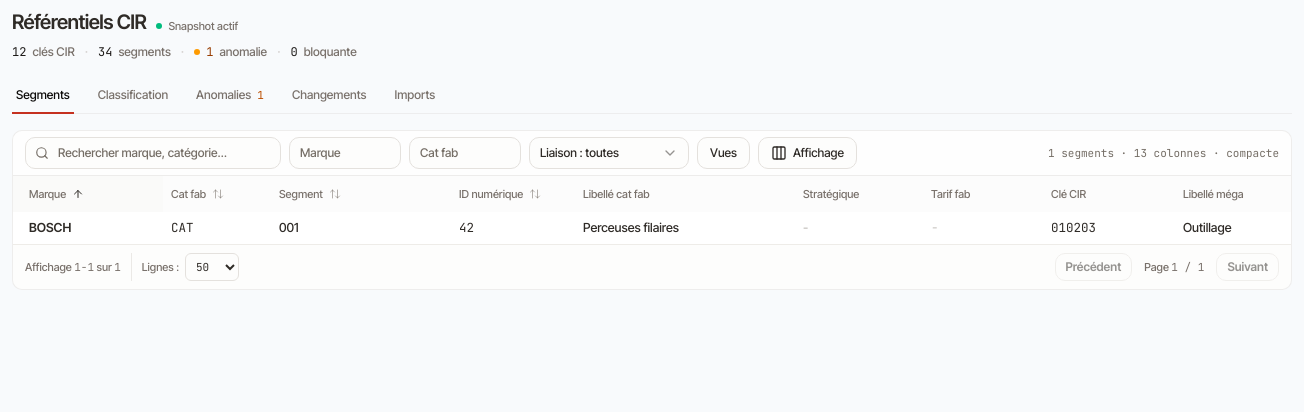
Scenario: PricingReferencesPage › preselects the blocking severity when navigating from the header status line
Click the button with aria-label "voir les anomalies bloquantes": [324, 52] box [290, 44, 357, 60]
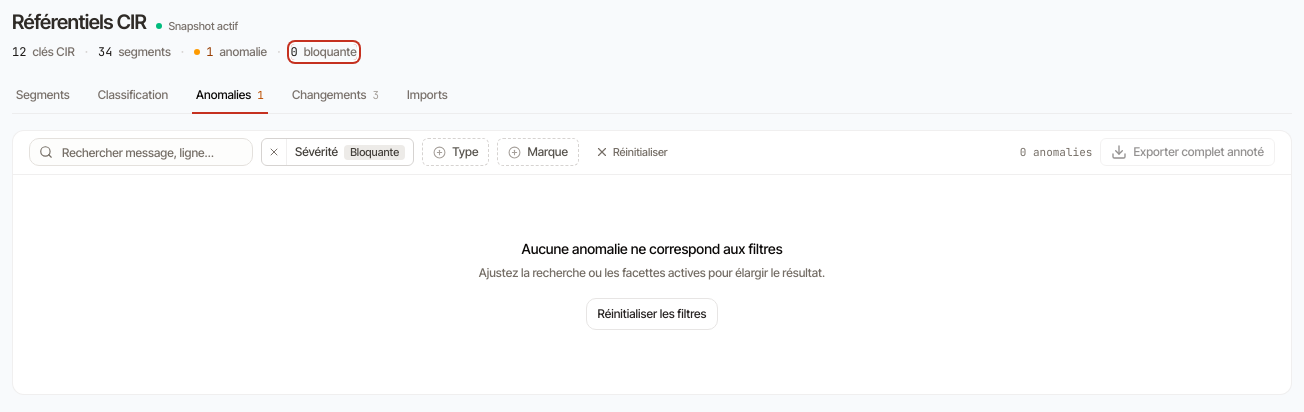
Expected: the text "Aucune anomalie ne correspond aux filtres" is shown, [521, 239, 782, 259]
Click the button "Réinitialiser les filtres": [652, 314] box [586, 298, 718, 330]
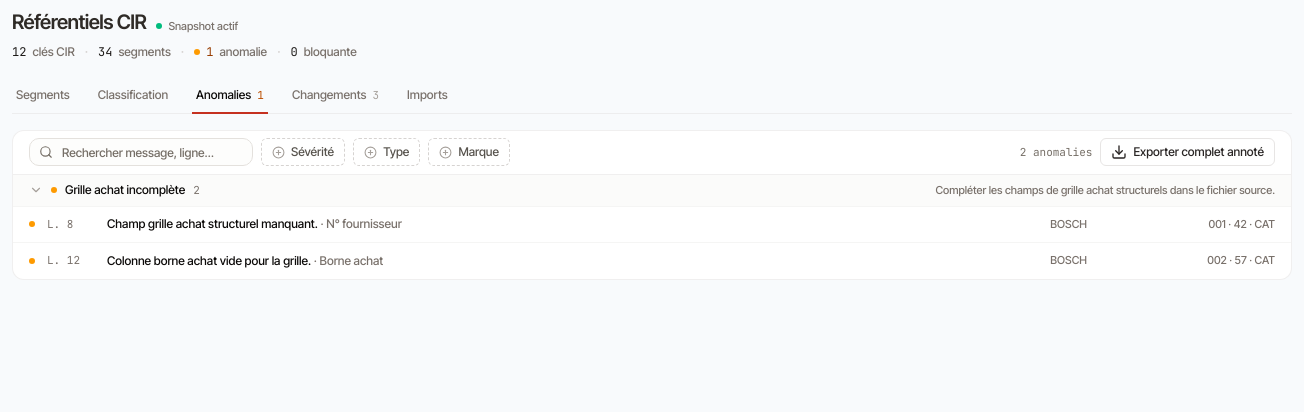
Expected: the button "Grille achat incomplète" is shown, [13, 175, 1291, 207]
